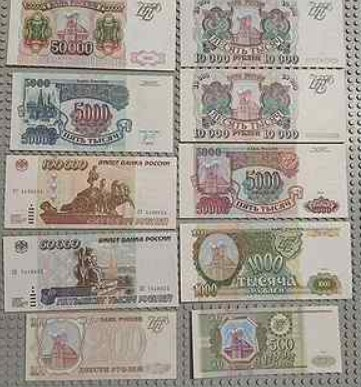cash: (180, 222, 351, 302), (3, 234, 179, 311), (12, 73, 173, 152), (6, 156, 176, 229), (179, 145, 348, 218), (180, 69, 345, 142), (8, 1, 176, 71), (191, 306, 341, 379), (180, 1, 342, 67), (25, 313, 177, 381)
